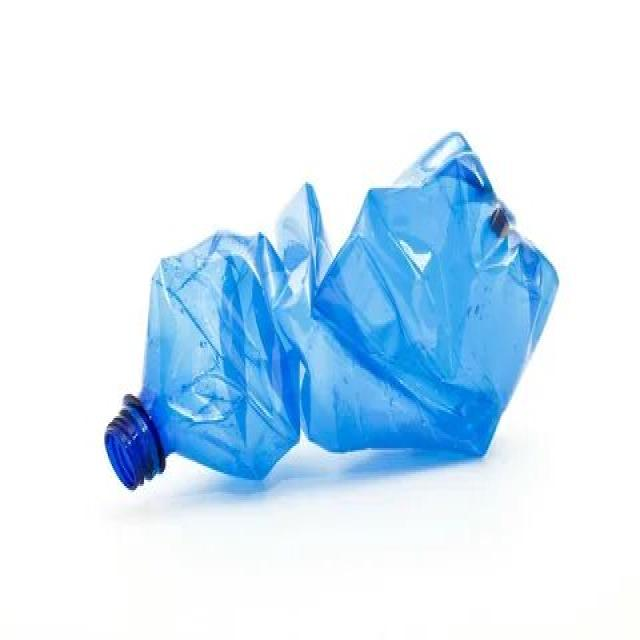blue: (102, 128, 560, 494)
